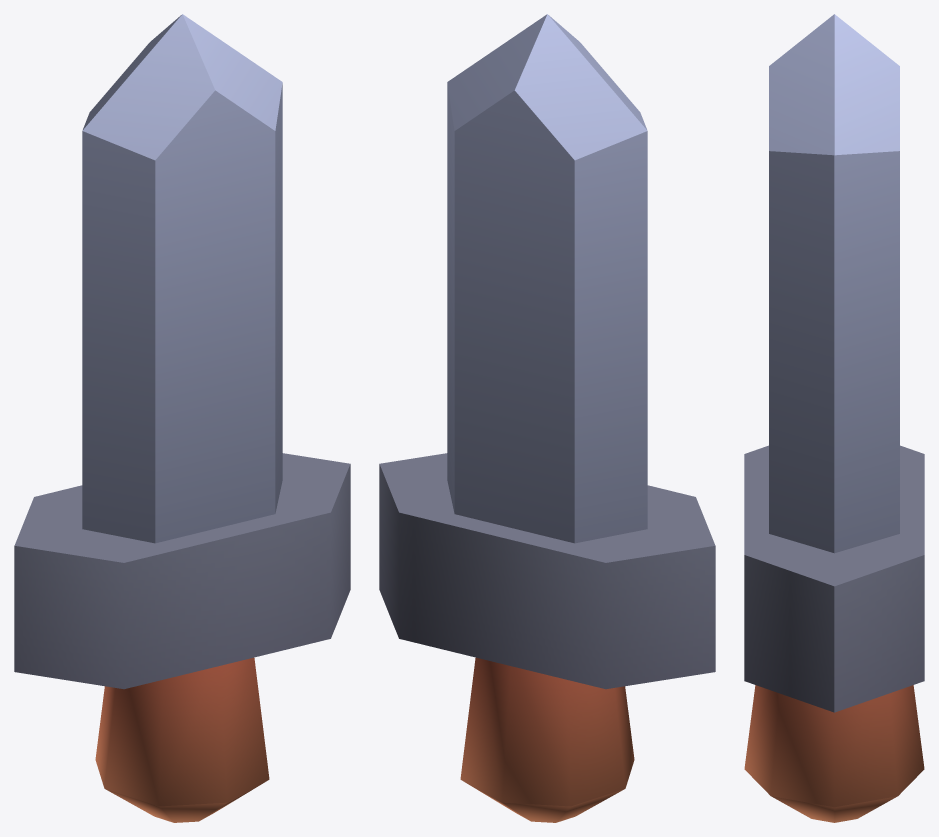
File: shortsword.glb
3 views of the same model, side by side, from view 1: azimuth 30°, elevation 25°; view 2: azimuth 150°, elevation 25°; view 3: azimuth 270°, elevation 25° (orthographic).
Parts seen in each view (by area): view 1: shortsword; view 2: shortsword; view 3: shortsword.
Part boxes in pixels (x1,y1,x2,y2): shortsword: [14, 14, 350, 822]; shortsword: [379, 14, 715, 822]; shortsword: [744, 14, 924, 822].
Size of the model in its own units: 0.442 by 1 by 0.2053.
1 material, 1 textured.
